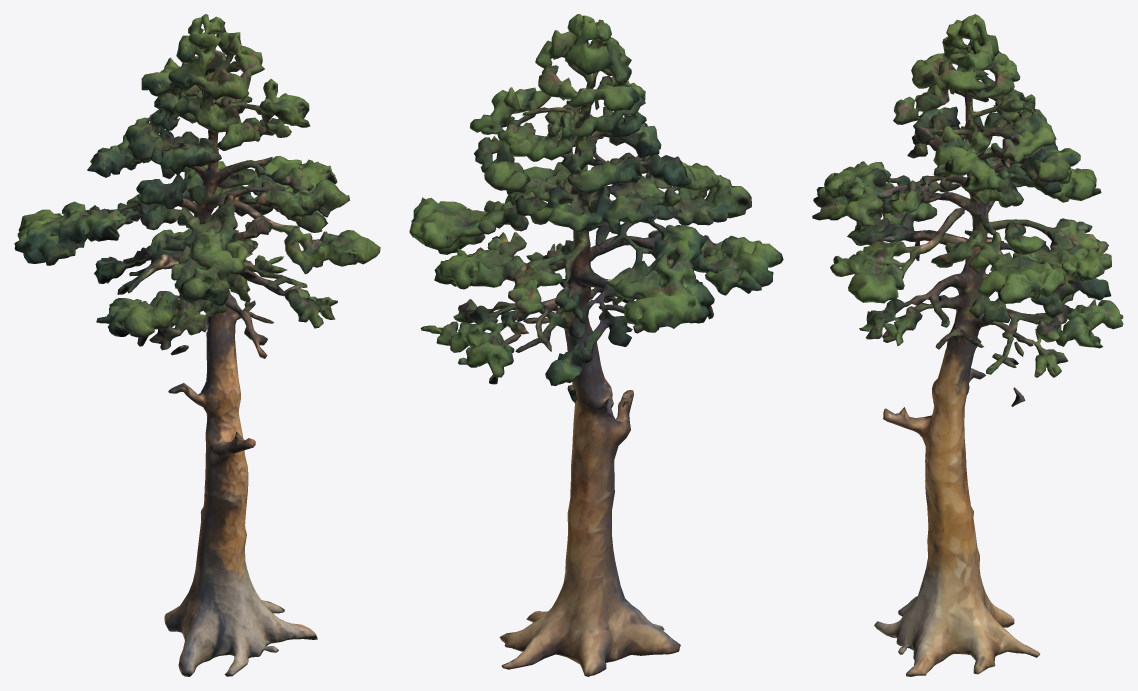
Rendered from AI_GnarledPineTree.fbx.
3 views of the same model, side by side, from view 1: azimuth 30°, elevation 25°; view 2: azimuth 150°, elevation 25°; view 3: azimuth 270°, elevation 25° (orthographic). The views are drawn at different scales.
Visible parts, largest first — view 1: Mesh_0; view 2: Mesh_0; view 3: Mesh_0.
Part boxes in pixels (x1,y1,x2,y2): Mesh_0: [14, 14, 380, 676]; Mesh_0: [409, 14, 783, 676]; Mesh_0: [812, 14, 1123, 676].
Bounding box in the file's own units: 101 × 201 × 90.21.
1 material, 1 textured.
